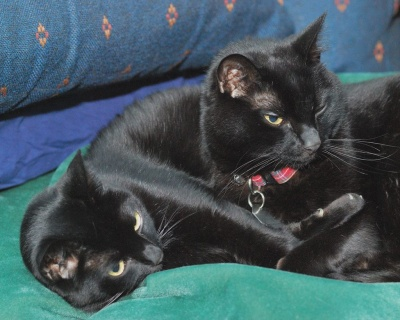Cat: (17, 78, 360, 319), (197, 5, 399, 282)
